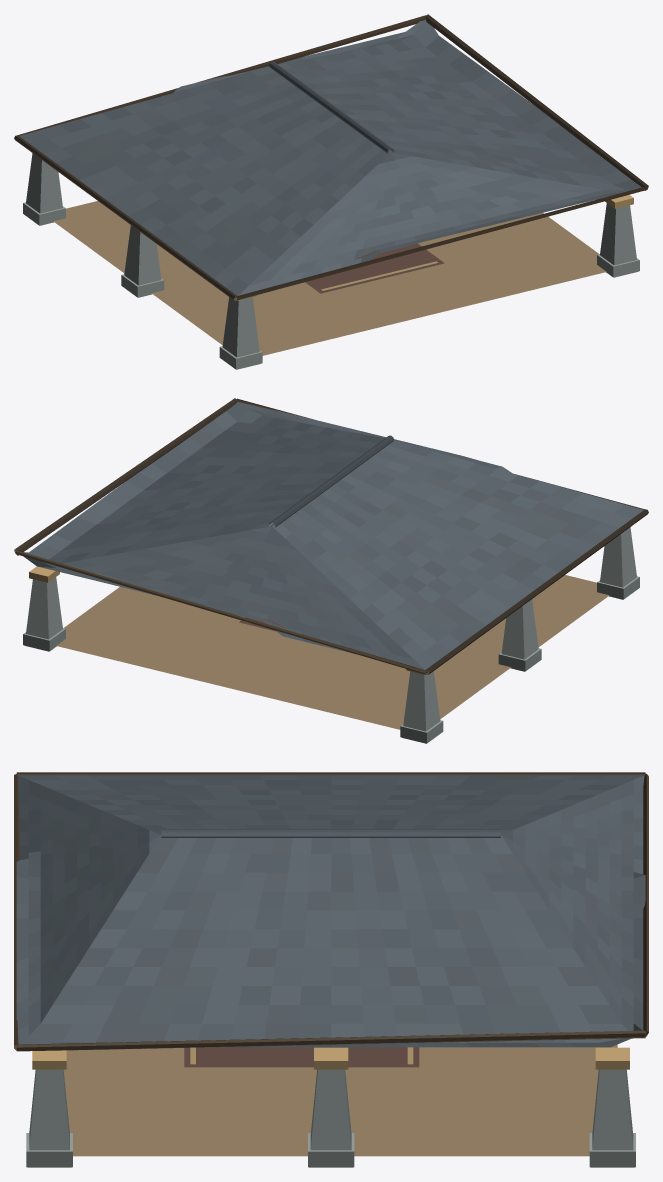
3 renders of one model, top to bottom at view 1: azimuth 30°, elevation 25°; view 2: azimuth 150°, elevation 25°; view 3: azimuth 270°, elevation 25°, orthographic. The views are drawn at different scales.
Visible parts, largest first — view 1: 2d4fdab524231703f1afbc036353c2b75659a7e2e12112a5f6ba4bd8f046; view 2: 2d4fdab524231703f1afbc036353c2b75659a7e2e12112a5f6ba4bd8f046; view 3: 2d4fdab524231703f1afbc036353c2b75659a7e2e12112a5f6ba4bd8f046.
Boxes of the visible parts, box(x1,y1,x2,y2) form: 2d4fdab524231703f1afbc036353c2b75659a7e2e12112a5f6ba4bd8f046: box(14, 14, 648, 369); 2d4fdab524231703f1afbc036353c2b75659a7e2e12112a5f6ba4bd8f046: box(14, 398, 648, 743); 2d4fdab524231703f1afbc036353c2b75659a7e2e12112a5f6ba4bd8f046: box(14, 772, 648, 1167).
Bounding box in the file's own units: 14.02 × 4.46 × 12.97.
6 materials, 1 textured.
